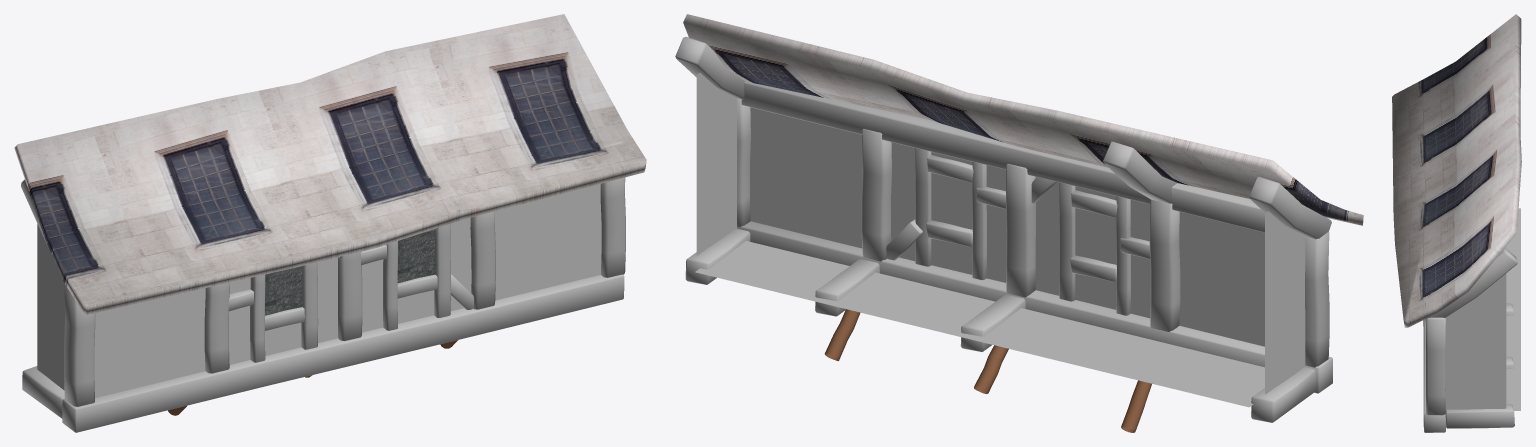
File: extra windows big.fbx
The picture shows the model from 3 angles, left to right: view 1: azimuth 30°, elevation 25°; view 2: azimuth 150°, elevation 25°; view 3: azimuth 270°, elevation 25°; orthographic projection. The views are drawn at different scales.
Visible parts, largest first — view 1: Cube.114; view 2: Cube.114; view 3: Cube.114.
Boxes of the visible parts, x1=… form: Cube.114: x1=14, y1=14, x2=646, y2=432; Cube.114: x1=675, y1=14, x2=1363, y2=432; Cube.114: x1=1392, y1=14, x2=1521, y2=432.
Bounding box in the file's own units: 859 × 430 × 208.
